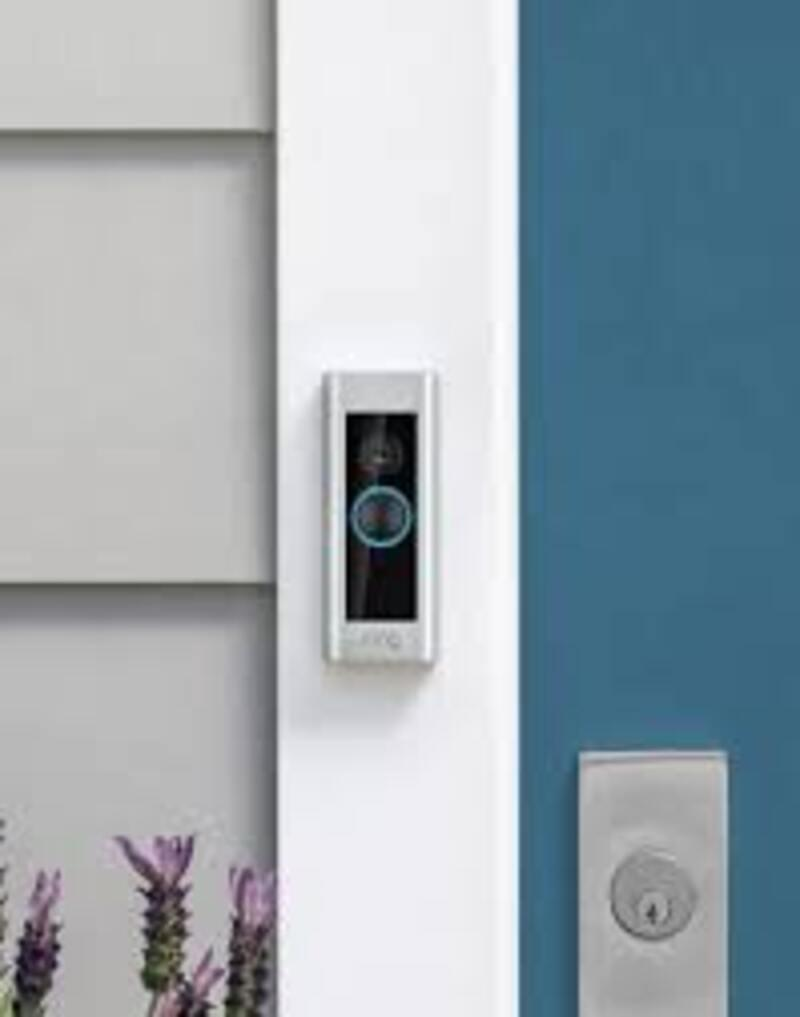doorbell: (320, 362, 444, 675)
